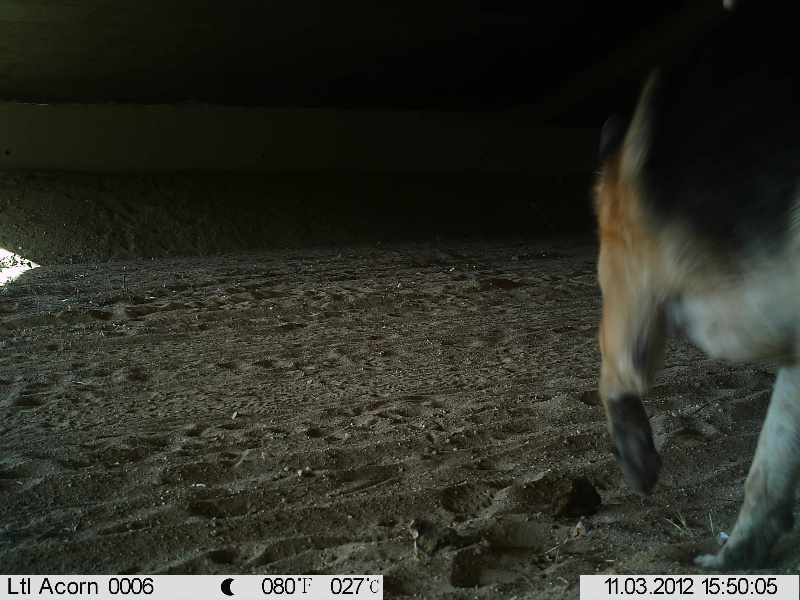dog: (580, 3, 800, 569)
